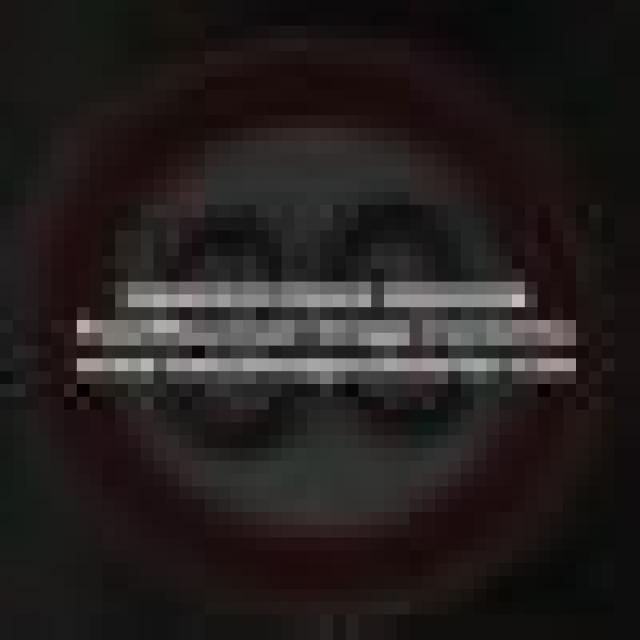SPEED_LIMIT_80: (38, 64, 576, 550)
